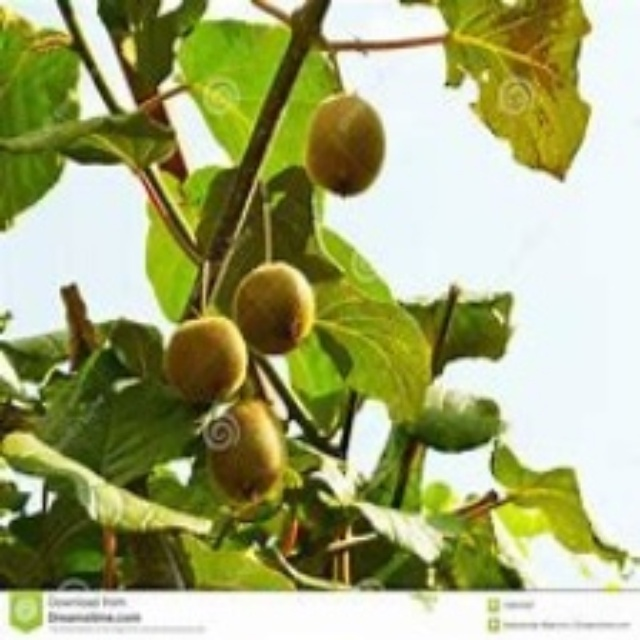kiwi: (304, 89, 393, 198), (167, 315, 255, 404), (209, 400, 282, 502), (238, 259, 312, 355)
